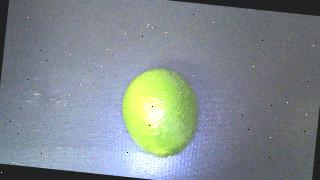EXPORTACION: (117, 65, 203, 161)
